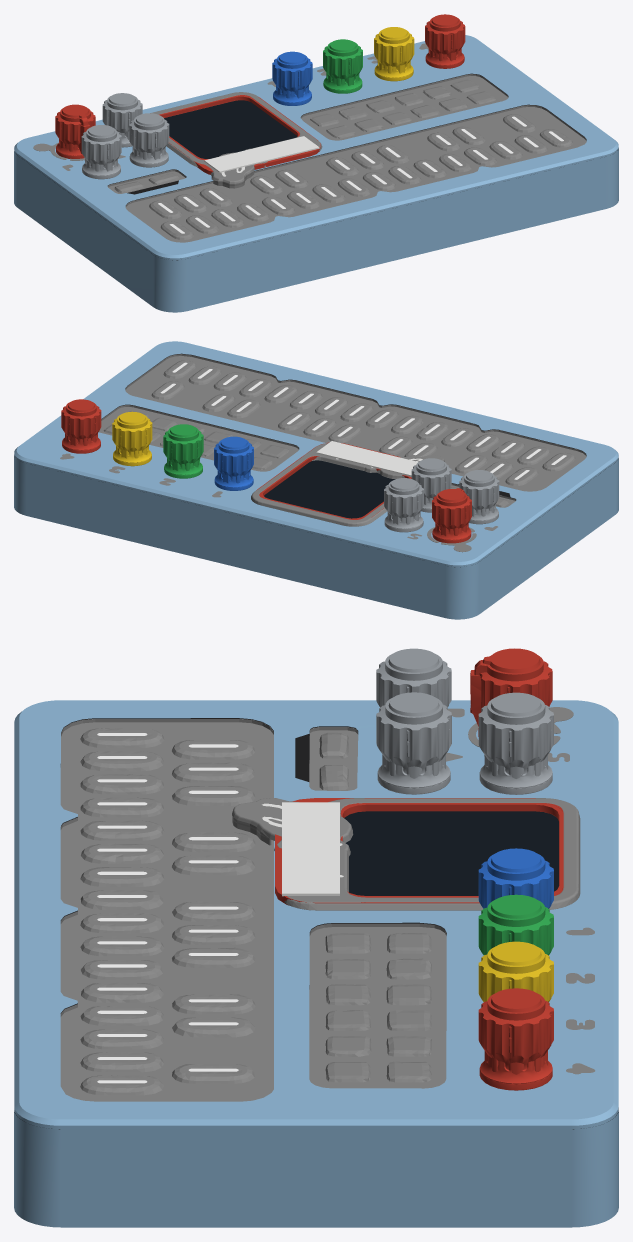
File: FM1_Kz_site_v0.92.glb
3 views of the same model, one above another, from view 1: azimuth 30°, elevation 25°; view 2: azimuth 150°, elevation 25°; view 3: azimuth 270°, elevation 25° (orthographic). The views are drawn at different scales.
Parts seen in each view (by area): view 1: faceplate_side, faceplate_body, keys_base, keys_buttons, fm1_screen, bezel_jiant, bezel_logo_sloop, keyboard_lights, bezel_ext, knob_nav2_classic_long_body, knob_p4_classic_long_body, knob_p1_classic_long_body (+7 smaller); view 2: faceplate_side, faceplate_body, keys_base, keys_buttons, fm1_screen, bezel_jiant, bezel_logo_sloop, keyboard_lights, knob_p3_classic_long_body, knob_p2_classic_long_body, knob_p4_classic_long_body, knob_vol_classic_long_body (+7 smaller); view 3: faceplate_body, faceplate_side, keys_base, keys_buttons, fm1_screen, bezel_jiant, bezel_logo_sloop, keyboard_lights, knob_nav3_classic_long_body, knob_p4_classic_long_body, knob_nav1_classic_long_body, bezel_ext (+21 smaller).
Boxes of the visible parts, x1,y1,x2,y2 form: faceplate_side: (14,149,618,312); faceplate_body: (14,35,618,260); keys_base: (107,74,586,242); keys_buttons: (114,79,572,239); fm1_screen: (164,100,297,158); bezel_jiant: (150,92,322,188); bezel_logo_sloop: (204,136,319,172); keyboard_lights: (158,116,563,233); bezel_ext: (159,95,320,174); knob_nav2_classic_long_body: (81,127,121,167); knob_p4_classic_long_body: (425,17,465,57); knob_p1_classic_long_body: (272,54,312,94); faceplate_side: (14,456,618,619); faceplate_body: (14,341,618,567); keys_base: (98,354,586,507); keys_buttons: (103,360,575,507); fm1_screen: (264,460,395,518); bezel_jiant: (251,443,444,526); bezel_logo_sloop: (316,441,417,476); keyboard_lights: (160,362,566,479); knob_p3_classic_long_body: (112,414,152,454); knob_p2_classic_long_body: (163,427,203,467); knob_p4_classic_long_body: (61,402,101,442); knob_vol_classic_long_body: (432,489,471,532); faceplate_body: (14,700,618,1129); faceplate_side: (14,1110,618,1227); keys_base: (60,719,446,1101); keys_buttons: (80,728,431,1095); fm1_screen: (344,811,558,895); bezel_jiant: (232,798,580,910); bezel_logo_sloop: (282,802,339,896); keyboard_lights: (97,733,238,1083); knob_nav3_classic_long_body: (376,697,451,773); knob_p4_classic_long_body: (478,993,553,1069); knob_nav1_classic_long_body: (478,698,553,773); bezel_ext: (275,798,563,905).
Bounding box in the file's own units: 0.1639 × 0.0333 × 0.0989.
